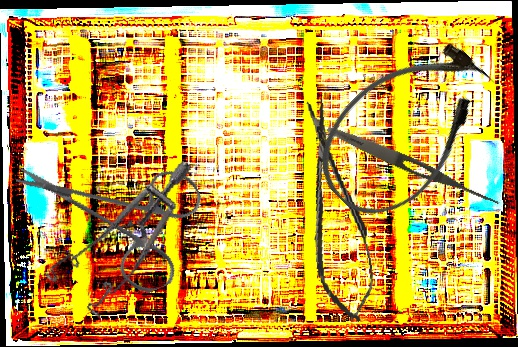Cannula: (297, 20, 514, 237)
Dressing Forceps: (324, 121, 504, 211)
Iris Scissors: (12, 108, 228, 324)
Micro Scissor: (293, 93, 380, 327)
Speculum: (36, 135, 194, 331)
